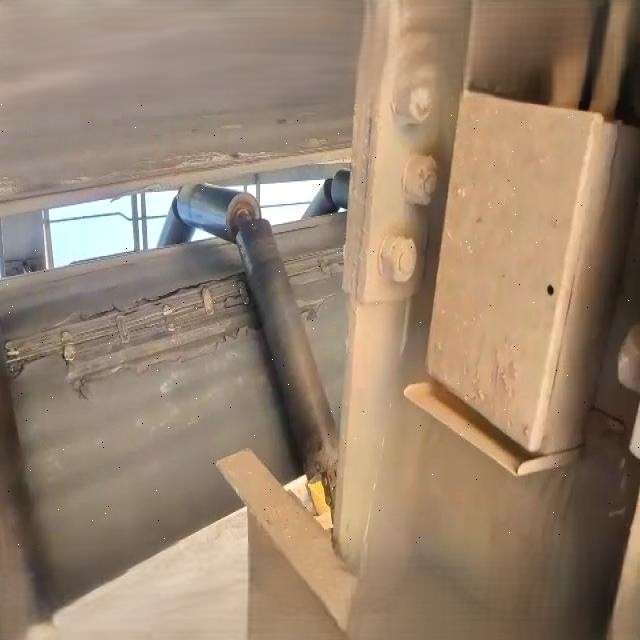Tear: (0, 265, 263, 406), (273, 245, 354, 322)
